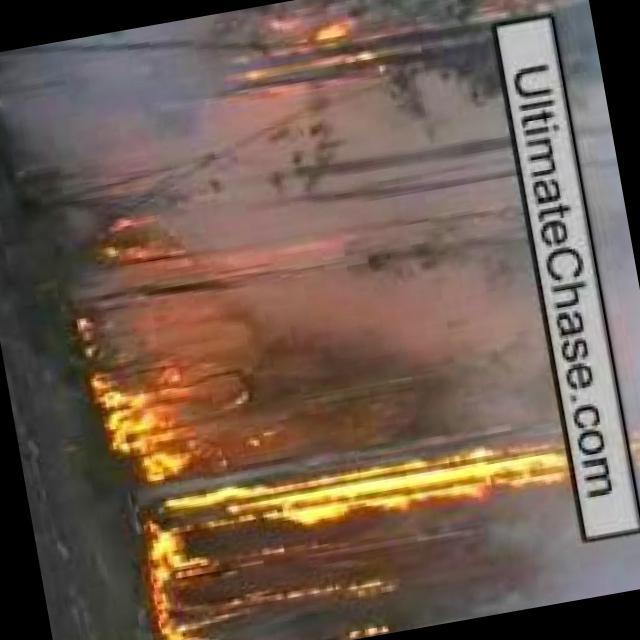Fire: (121, 415, 640, 574), (225, 1, 405, 98), (79, 352, 199, 488), (88, 201, 190, 269), (152, 594, 197, 640)
